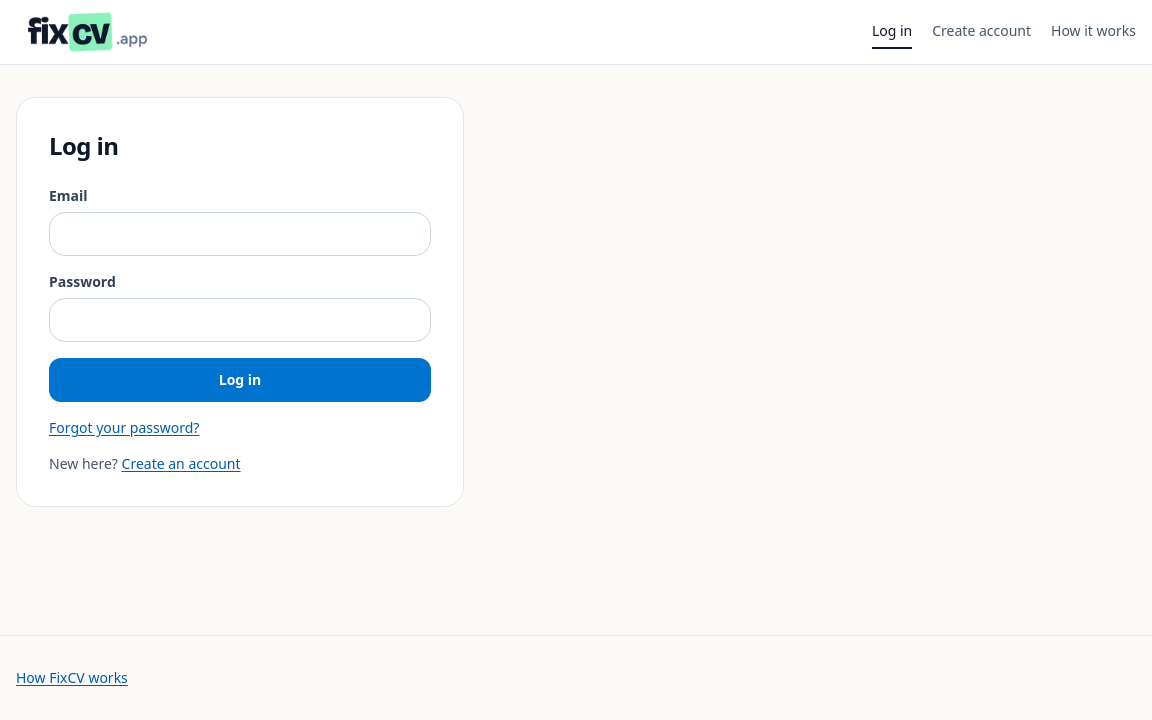
it: The login ↔ register cross-links keep `next` (AC-36) › the round trip: login → register → login → register keeps the same next, then registering shows Check your email whose Log in link still carries it
Check: the element "Log in" is shown, box [16,97,464,507]
Click the link "Create an account": x=181, y=464 [122,454,241,473]
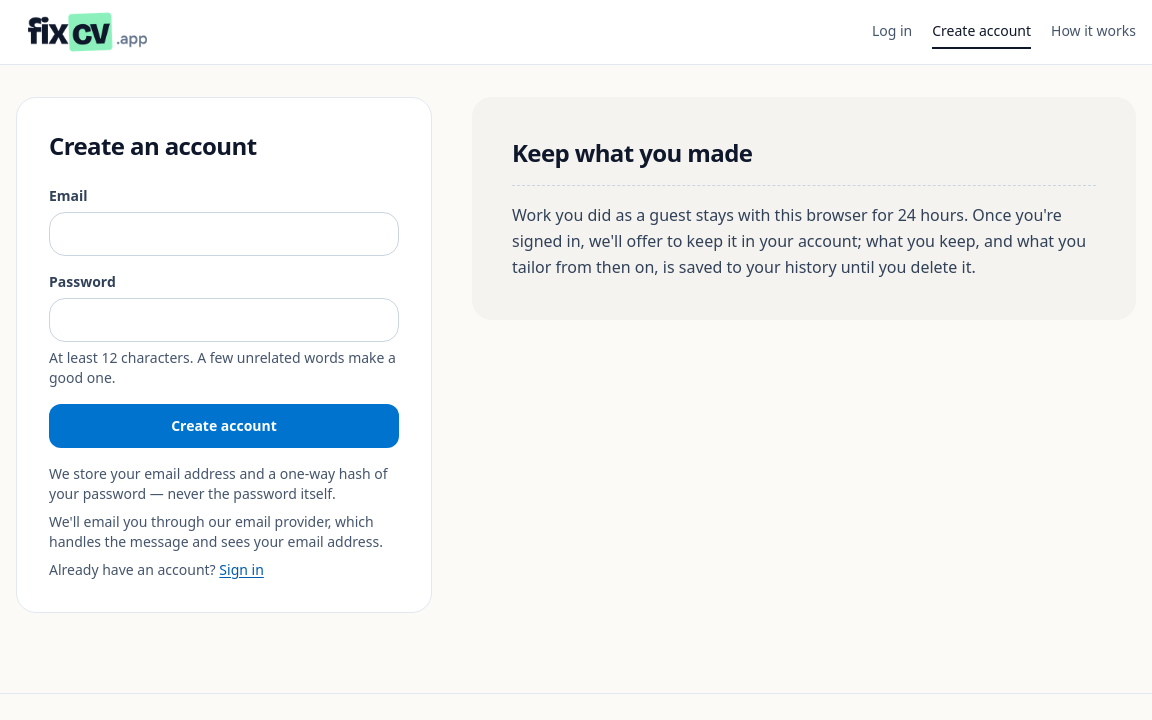
Click the link "Sign in": x=242, y=570 [219,560,264,579]
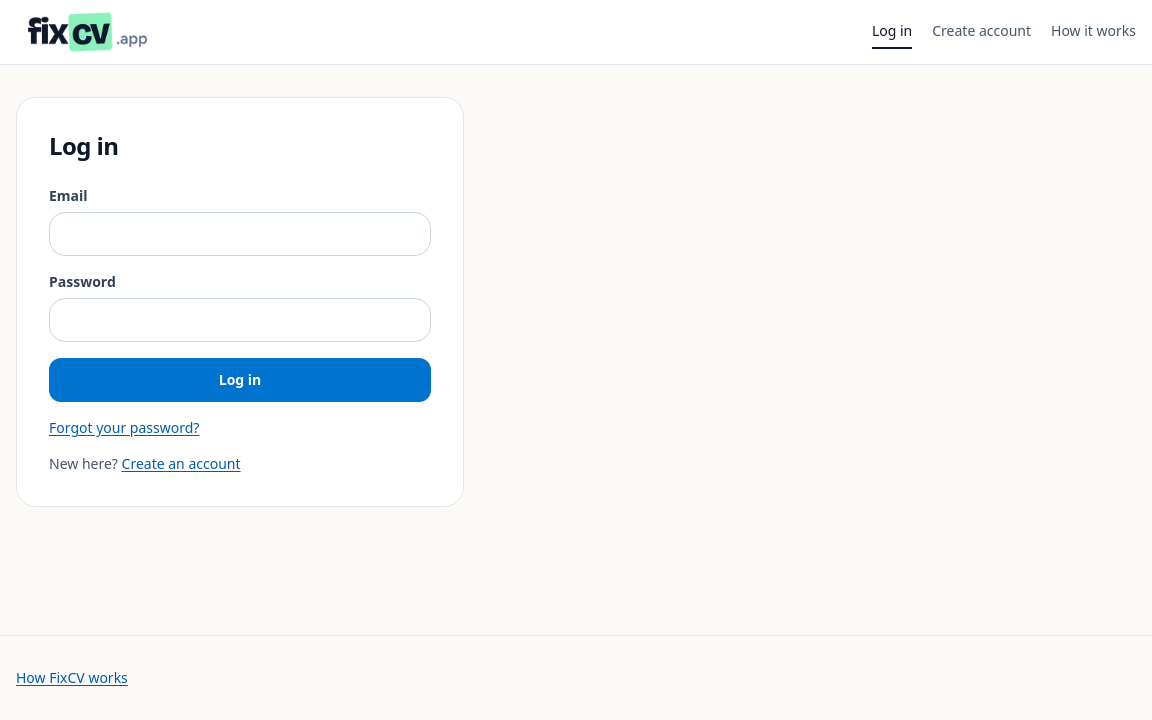
Check: the element "Log in" is shown, box [16,97,464,507]
Click the link "Create an account": x=181, y=464 [122,454,241,473]
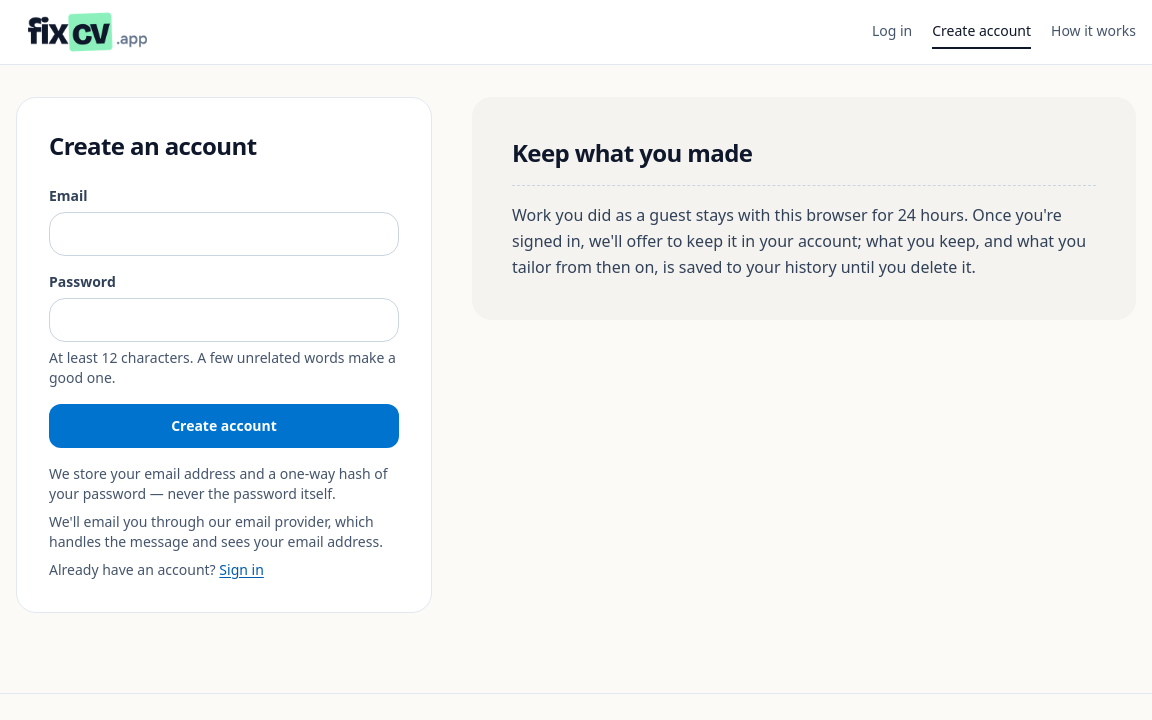
In the field labelled "Email": x=224, y=234 [49,212,399,256], type "alex@example.com"
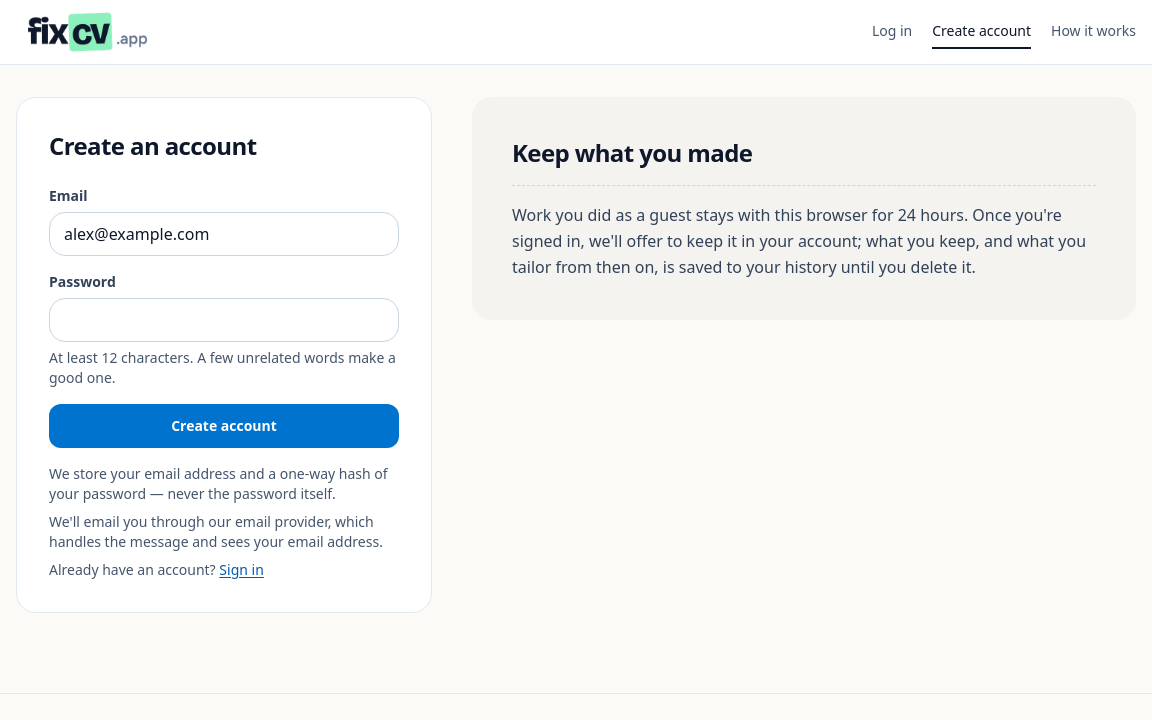
In the password field labelled "Password": x=224, y=320 [49,298,399,342], type "a very long real password"
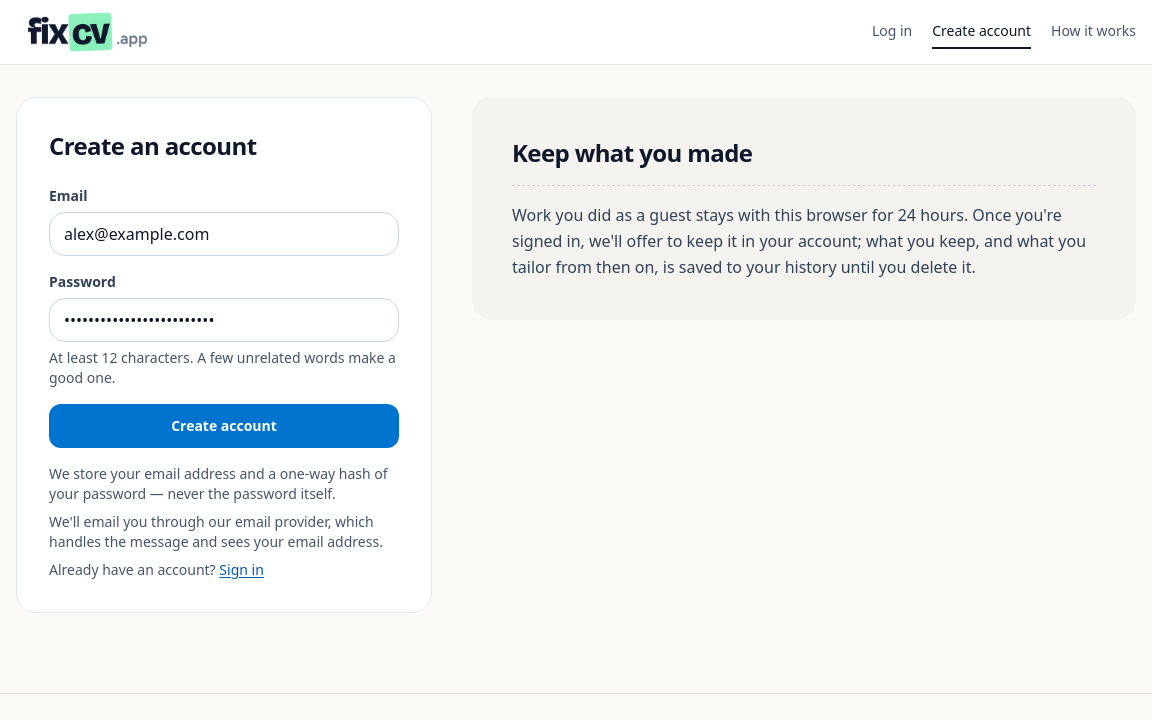
Click the button "Create account": x=224, y=426 [49,404,399,448]
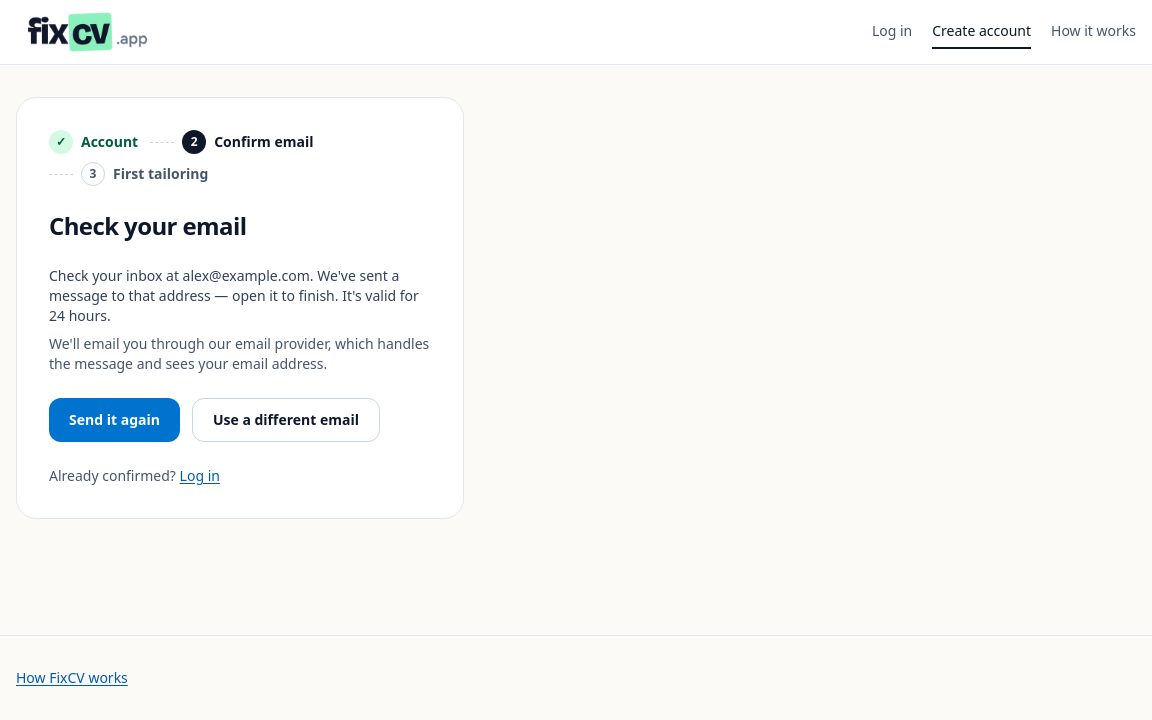
Check: the heading "Check your email" is shown, box [49,209,246,242]
